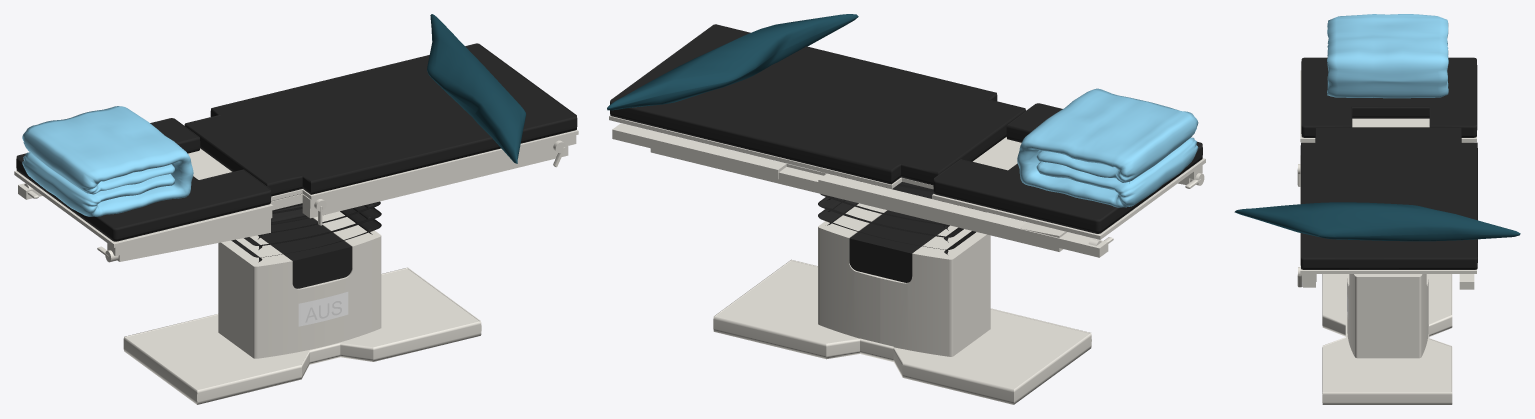
File: medical_table.FBX
The picture shows the model from 3 angles, left to right: view 1: azimuth 30°, elevation 25°; view 2: azimuth 150°, elevation 25°; view 3: azimuth 270°, elevation 25°; orthographic projection. The views are drawn at different scales.
Visible parts, largest first — view 1: Rectangle09, Box02 (×2), Rectangle01, Rectangle02, Rectangle08, ChamferBox20, Box01, Rectangle13, Rectangle05, Loft01, Rectangle04, Line02; view 2: Rectangle09, Rectangle01, Rectangle02, Box02, Box03, Rectangle08, ChamferBox20, Box01, Rectangle13, Loft01, Rectangle07, Rectangle06; view 3: Rectangle09, Rectangle01, Box02, ChamferBox20, Rectangle08, Rectangle02, Box01, Box03.
Boxes of the visible parts, left/top/right/bottom form: Rectangle09: left=184, top=43, right=577, bottom=196; Box02 (×2): left=22, top=106, right=576, bottom=256; Rectangle01: left=123, top=267, right=481, bottom=404; Rectangle02: left=218, top=211, right=381, bottom=358; Rectangle08: left=16, top=118, right=271, bottom=241; ChamferBox20: left=427, top=14, right=526, bottom=163; Box01: left=14, top=130, right=578, bottom=247; Rectangle13: left=258, top=218, right=351, bottom=288; Rectangle05: left=302, top=146, right=568, bottom=218; Loft01: left=231, top=193, right=381, bottom=262; Rectangle04: left=117, top=218, right=270, bottom=261; Line02: left=298, top=292, right=348, bottom=326; Rectangle09: left=610, top=24, right=1025, bottom=185; Rectangle01: left=713, top=259, right=1091, bottom=404; Rectangle02: left=818, top=203, right=990, bottom=356; Box02: left=1017, top=88, right=1198, bottom=207; Box03: left=612, top=123, right=1108, bottom=257; Rectangle08: left=933, top=103, right=1202, bottom=233; ChamferBox20: left=607, top=14, right=858, bottom=110; Box01: left=609, top=115, right=1205, bottom=239; Rectangle13: left=849, top=210, right=949, bottom=282; Loft01: left=818, top=174, right=984, bottom=254; Rectangle07: left=650, top=148, right=900, bottom=212; Rectangle06: left=900, top=209, right=1067, bottom=251; Rectangle09: left=1300, top=127, right=1477, bottom=269; Rectangle01: left=1322, top=274, right=1452, bottom=404; Box02: left=1327, top=14, right=1448, bottom=98; ChamferBox20: left=1234, top=202, right=1520, bottom=241; Rectangle08: left=1301, top=57, right=1477, bottom=137; Rectangle02: left=1347, top=274, right=1428, bottom=358; Box01: left=1300, top=70, right=1476, bottom=273; Box03: left=1459, top=142, right=1474, bottom=289.
Size of the model in its own units: 413 by 211 by 243.
